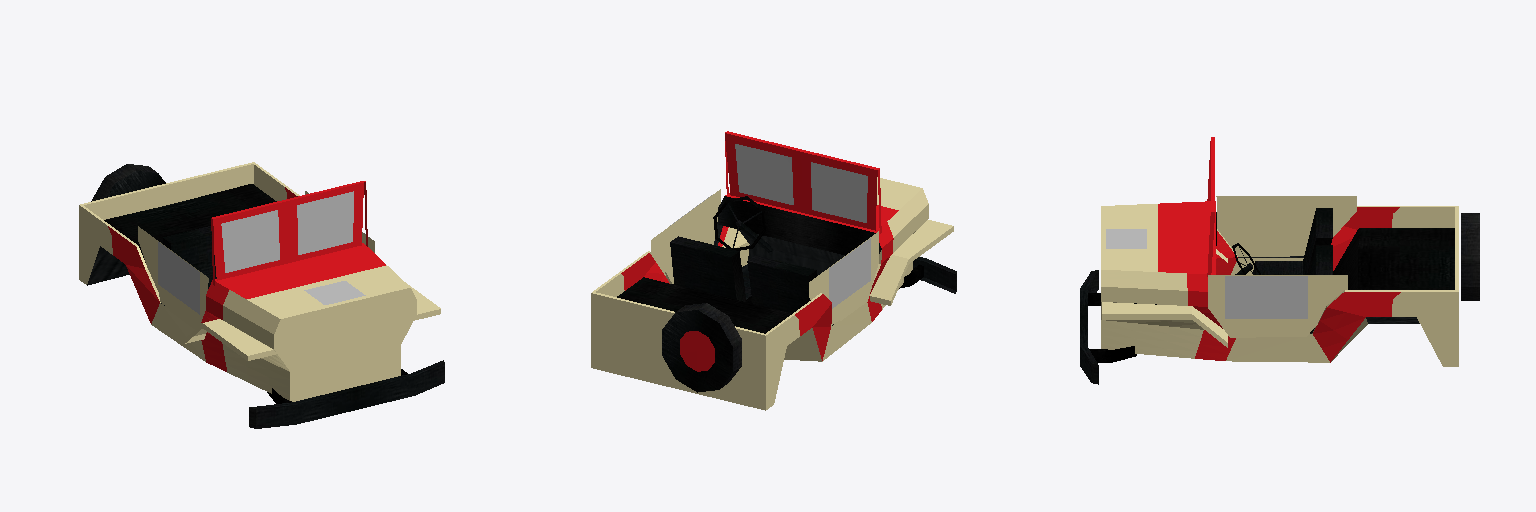
3 views of the same model, side by side, from view 1: azimuth 30°, elevation 25°; view 2: azimuth 150°, elevation 25°; view 3: azimuth 270°, elevation 25° (orthographic).
Visible parts, largest first — view 1: Plane; view 2: Plane; view 3: Plane.
Boxes of the visible parts, x1=… form: Plane: x1=79, y1=162, x2=444, y2=428; Plane: x1=591, y1=131, x2=956, y2=410; Plane: x1=1080, y1=137, x2=1479, y2=384.
Bounding box in the file's own units: 19.05 × 15.12 × 33.79.
8 materials, 3 textured.